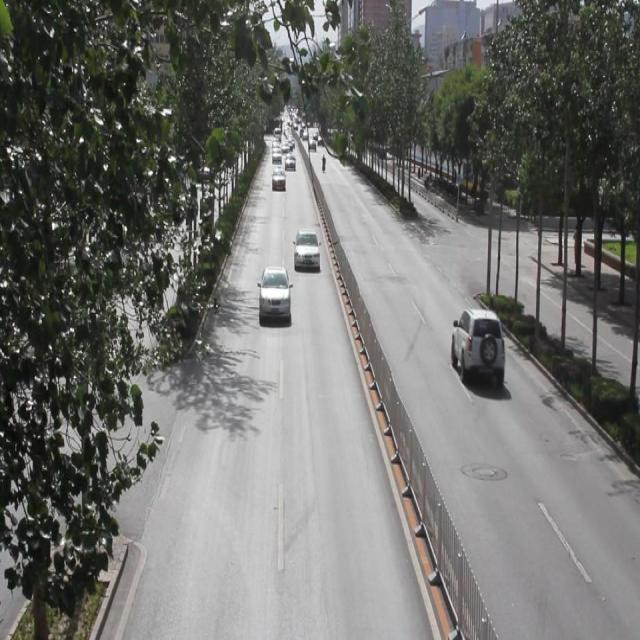car: (451, 308, 502, 384), (258, 266, 291, 324), (293, 232, 321, 273), (272, 168, 286, 192)
